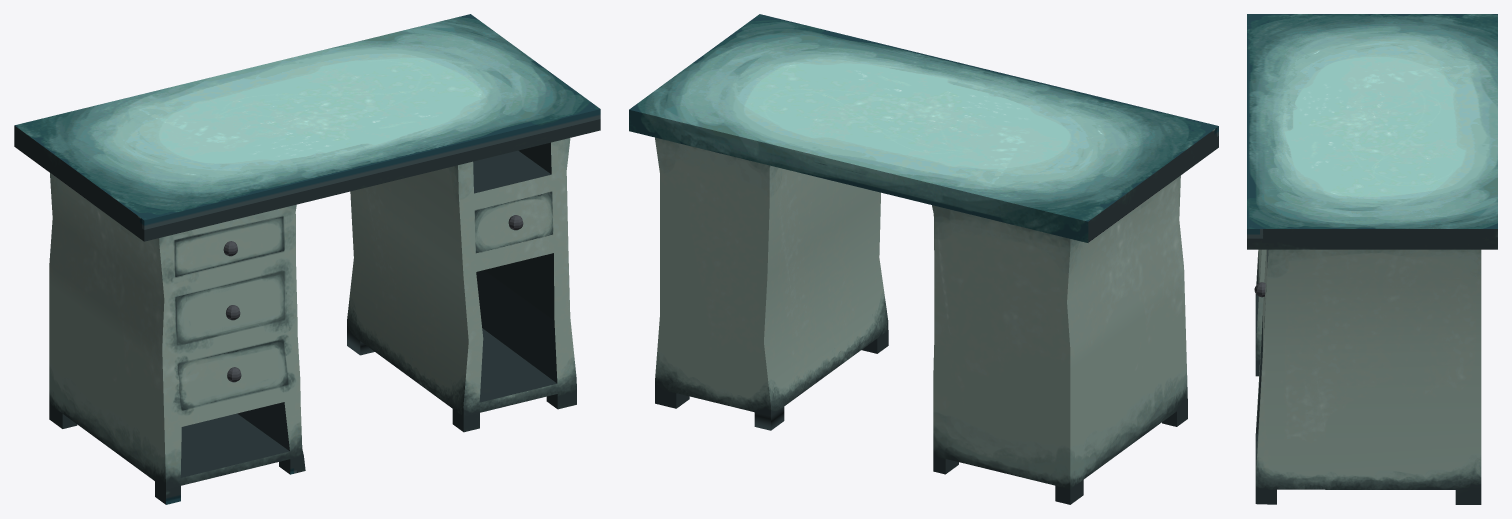
The model's file is New_desk.fbx.
3 views of the same model, side by side, from view 1: azimuth 30°, elevation 25°; view 2: azimuth 150°, elevation 25°; view 3: azimuth 270°, elevation 25° (orthographic). The views are drawn at different scales.
Visible parts, largest first — view 1: Desk; view 2: Desk; view 3: Desk.
Part boxes in pixels (x1=…): Desk: x1=14, y1=14, x2=600, y2=504; Desk: x1=629, y1=14, x2=1218, y2=504; Desk: x1=1247, y1=14, x2=1497, y2=504.
Size of the model in its own units: 148 by 91.38 by 73.14.
